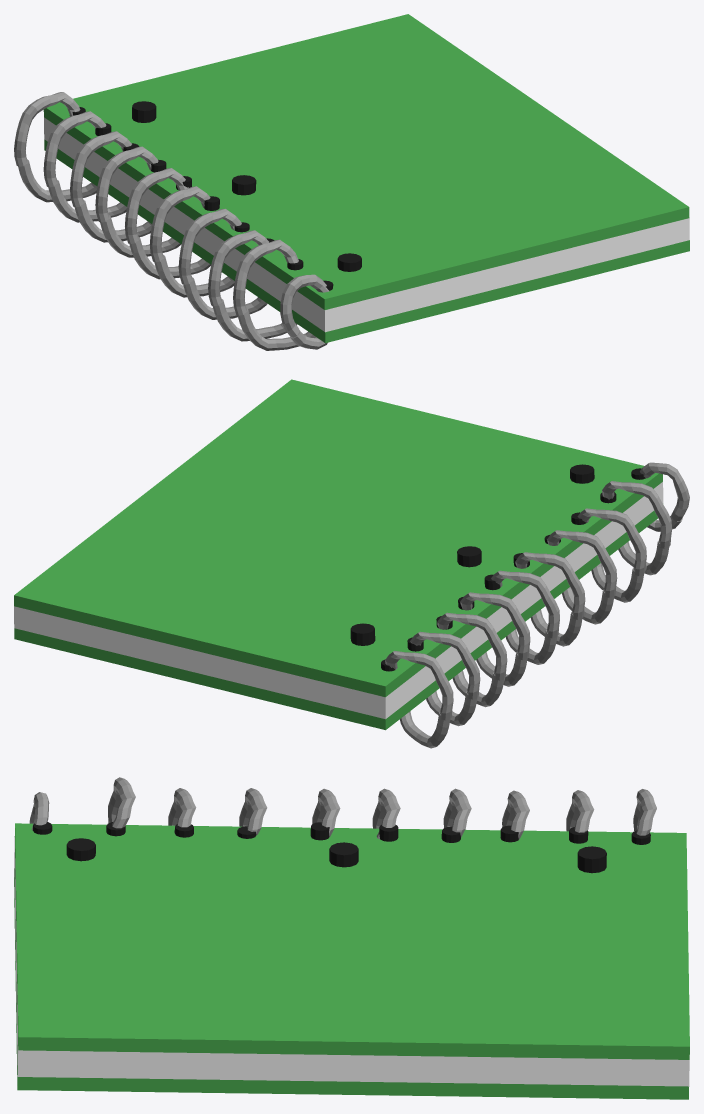
Rendered from book.glb.
The picture shows the model from 3 angles, top to bottom: view 1: azimuth 30°, elevation 25°; view 2: azimuth 150°, elevation 25°; view 3: azimuth 270°, elevation 25°; orthographic projection. The views are drawn at different scales.
Visible parts, largest first — view 1: group1791086134; view 2: group1791086134; view 3: group1791086134.
Boxes of the visible parts, <box> form: group1791086134: <box>14,14,689,350</box>; group1791086134: <box>14,379,689,748</box>; group1791086134: <box>14,777,689,1099</box>.
Size of the model in its own units: 0.3987 by 0.0987 by 0.463.
